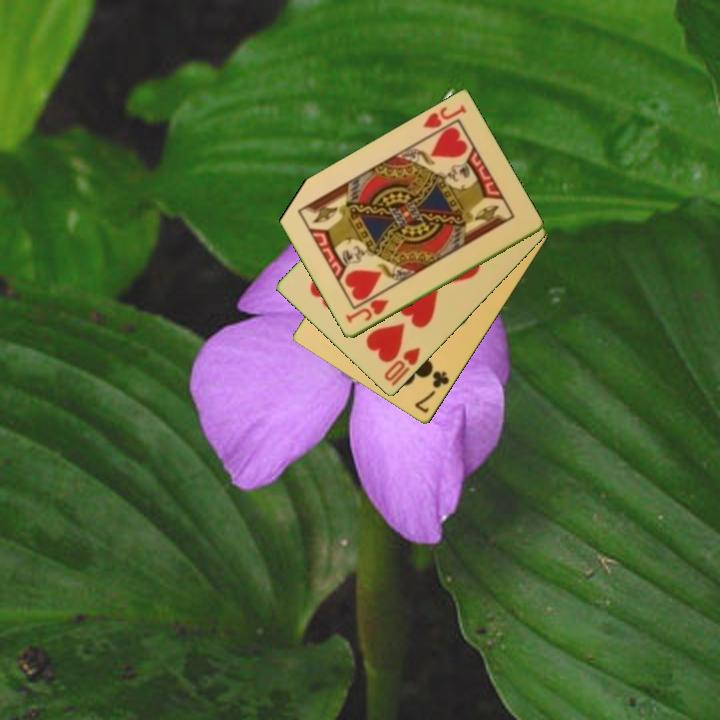10h: (380, 344, 423, 389)
7c: (411, 367, 452, 417)
Jh: (419, 102, 469, 140), (342, 296, 392, 326)
